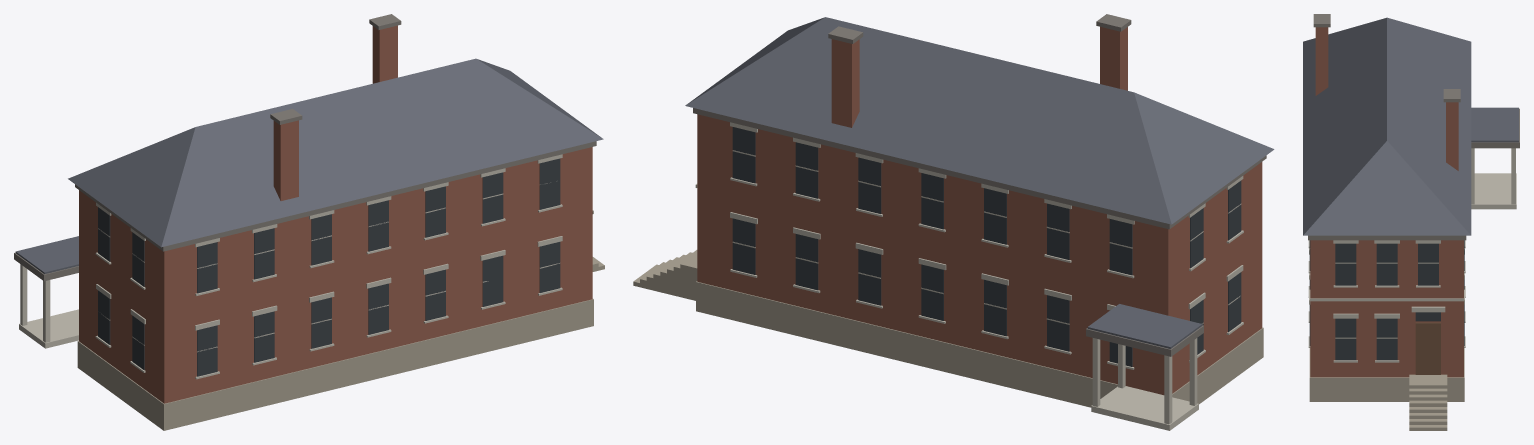
The model's file is house_1726_prairie__draft_1904.glb.
3 views of the same model, side by side, from view 1: azimuth 30°, elevation 25°; view 2: azimuth 150°, elevation 25°; view 3: azimuth 270°, elevation 25° (orthographic). The views are drawn at different scales.
Parts seen in each view (by area): view 1: house_1726_prairie__draft_1904; view 2: house_1726_prairie__draft_1904; view 3: house_1726_prairie__draft_1904.
Part boxes in pixels (x1,y1,x2,y2): house_1726_prairie__draft_1904: [14, 14, 604, 430]; house_1726_prairie__draft_1904: [633, 14, 1274, 430]; house_1726_prairie__draft_1904: [1303, 14, 1519, 430].
Bounding box in the file's own units: 25.95 × 13.09 × 10.25.
